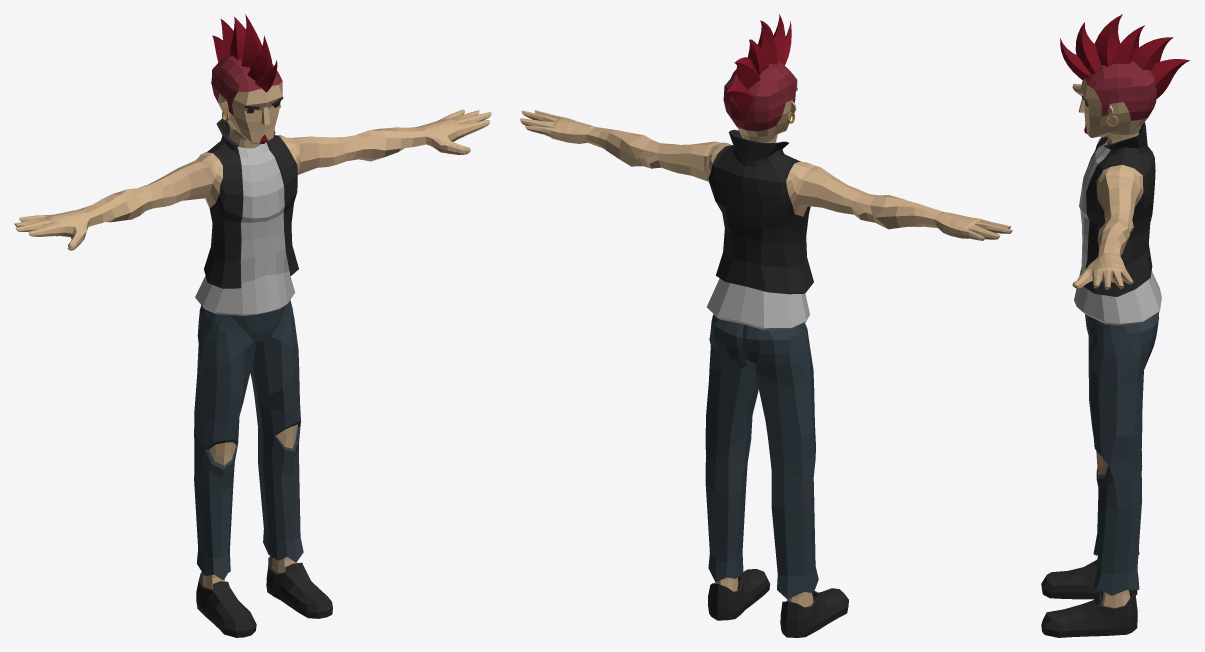
The model's file is Punk.fbx.
3 renders of one model, left to right at view 1: azimuth 30°, elevation 25°; view 2: azimuth 150°, elevation 25°; view 3: azimuth 270°, elevation 25°, orthographic. The views are drawn at different scales.
Visible parts, largest first — view 1: Punk_Body, Punk_Legs, Punk_Head, Punk_Feet; view 2: Punk_Body, Punk_Legs, Punk_Head, Punk_Feet; view 3: Punk_Legs, Punk_Body, Punk_Head, Punk_Feet.
Part boxes in pixels (x1=…): Punk_Body: x1=14, y1=109, x2=491, y2=315; Punk_Legs: x1=194, y1=300, x2=303, y2=579; Punk_Head: x1=211, y1=14, x2=283, y2=148; Punk_Feet: x1=196, y1=556, x2=332, y2=637; Punk_Body: x1=520, y1=110, x2=1012, y2=330; Punk_Legs: x1=705, y1=314, x2=818, y2=598; Punk_Head: x1=723, y1=14, x2=797, y2=142; Punk_Feet: x1=708, y1=569, x2=848, y2=637; Punk_Legs: x1=1085, y1=313, x2=1158, y2=595; Punk_Body: x1=1072, y1=83, x2=1161, y2=325; Punk_Head: x1=1060, y1=14, x2=1190, y2=144; Punk_Feet: x1=1041, y1=559, x2=1137, y2=637.
Bounding box in the file's own units: 168 × 197 × 44.62.
